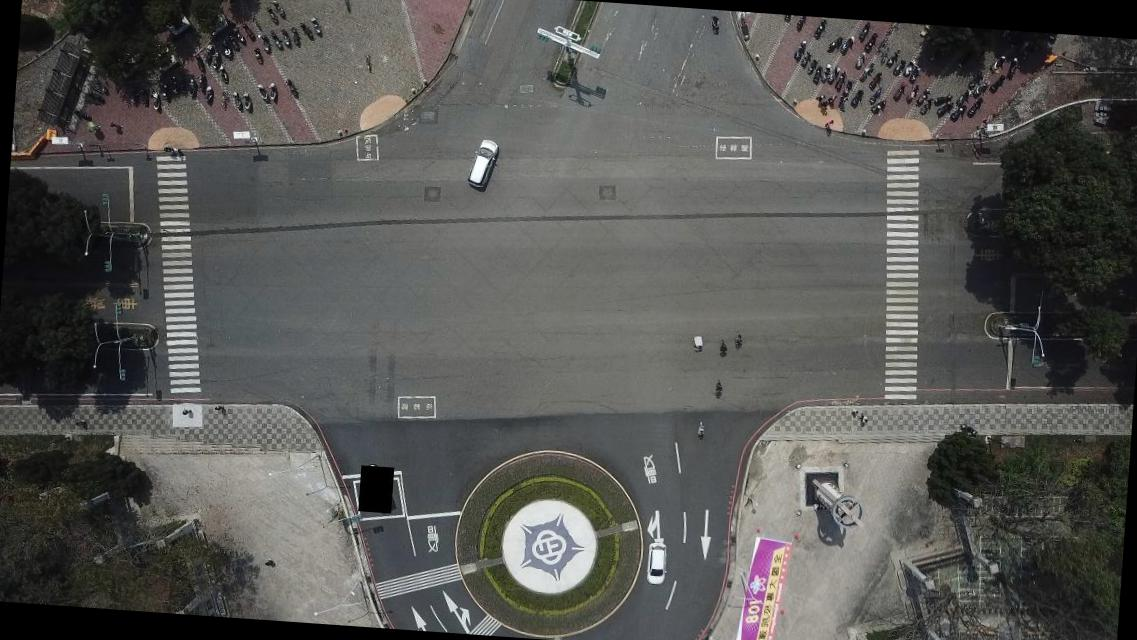vehicle: (465, 138, 498, 188), (644, 542, 666, 585)
